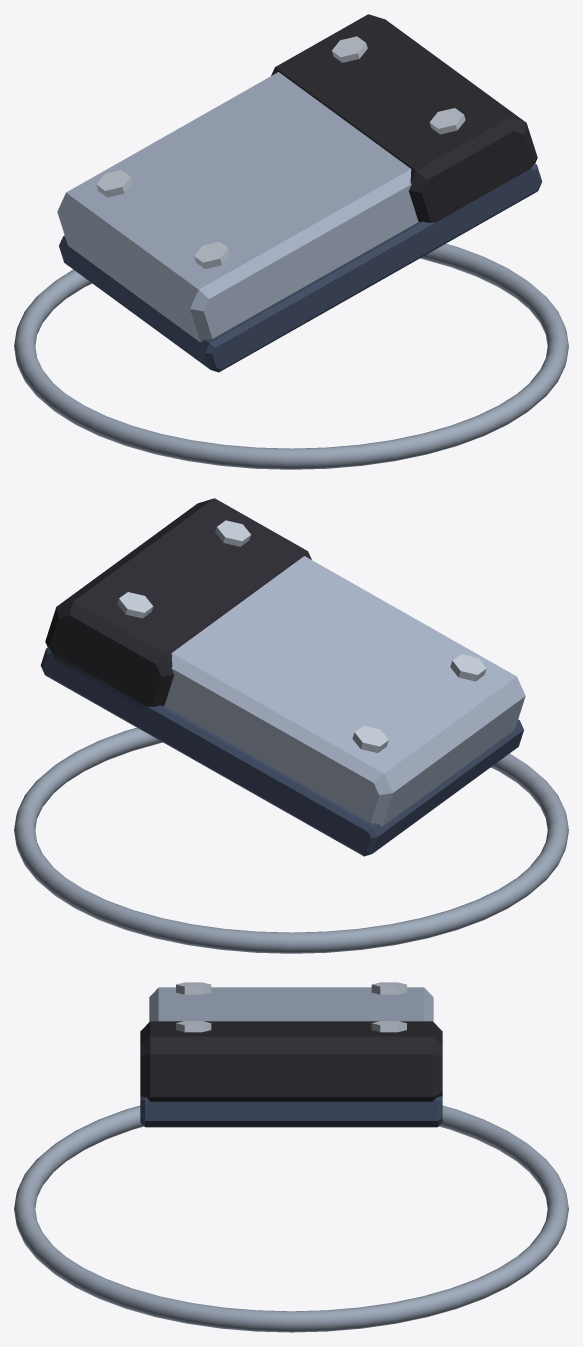
Rendered from pickup_plating.glb.
3 views of the same model, one above another, from view 1: azimuth 30°, elevation 25°; view 2: azimuth 150°, elevation 25°; view 3: azimuth 270°, elevation 25° (orthographic).
Parts seen in each view (by area): view 1: plating_slab, plating_scorch, plating_ring, plating_back, plating_rivet-0.160.11, plating_rivet-0.16-0.11, plating_rivet0.16-0.11, plating_rivet0.160.11; view 2: plating_slab, plating_scorch, plating_ring, plating_back, plating_rivet-0.16-0.11, plating_rivet-0.160.11, plating_rivet0.160.11, plating_rivet0.16-0.11; view 3: plating_scorch, plating_ring, plating_slab, plating_back.
Part boxes in pixels (x1,y1,x2,y2): plating_slab: [57, 72, 418, 342]; plating_scorch: [271, 14, 537, 222]; plating_ring: [14, 243, 568, 469]; plating_back: [59, 163, 542, 372]; plating_rivet-0.160.11: [194, 241, 230, 268]; plating_rivet-0.16-0.11: [96, 170, 132, 197]; plating_rivet0.16-0.11: [332, 36, 367, 62]; plating_rivet0.160.11: [429, 108, 465, 134]; plating_slab: [164, 556, 525, 826]; plating_scorch: [45, 498, 311, 707]; plating_ring: [14, 727, 568, 953]; plating_back: [40, 647, 523, 856]; plating_rivet-0.16-0.11: [352, 725, 388, 752]; plating_rivet-0.160.11: [450, 654, 486, 681]; plating_rivet0.160.11: [215, 520, 250, 546]; plating_rivet0.16-0.11: [117, 592, 153, 618]; plating_scorch: [140, 1021, 442, 1101]; plating_ring: [14, 1105, 568, 1332]; plating_slab: [149, 987, 433, 1021]; plating_back: [140, 1096, 442, 1127].
Bounding box in the file's own units: 0.624 × 0.3154 × 0.624.
